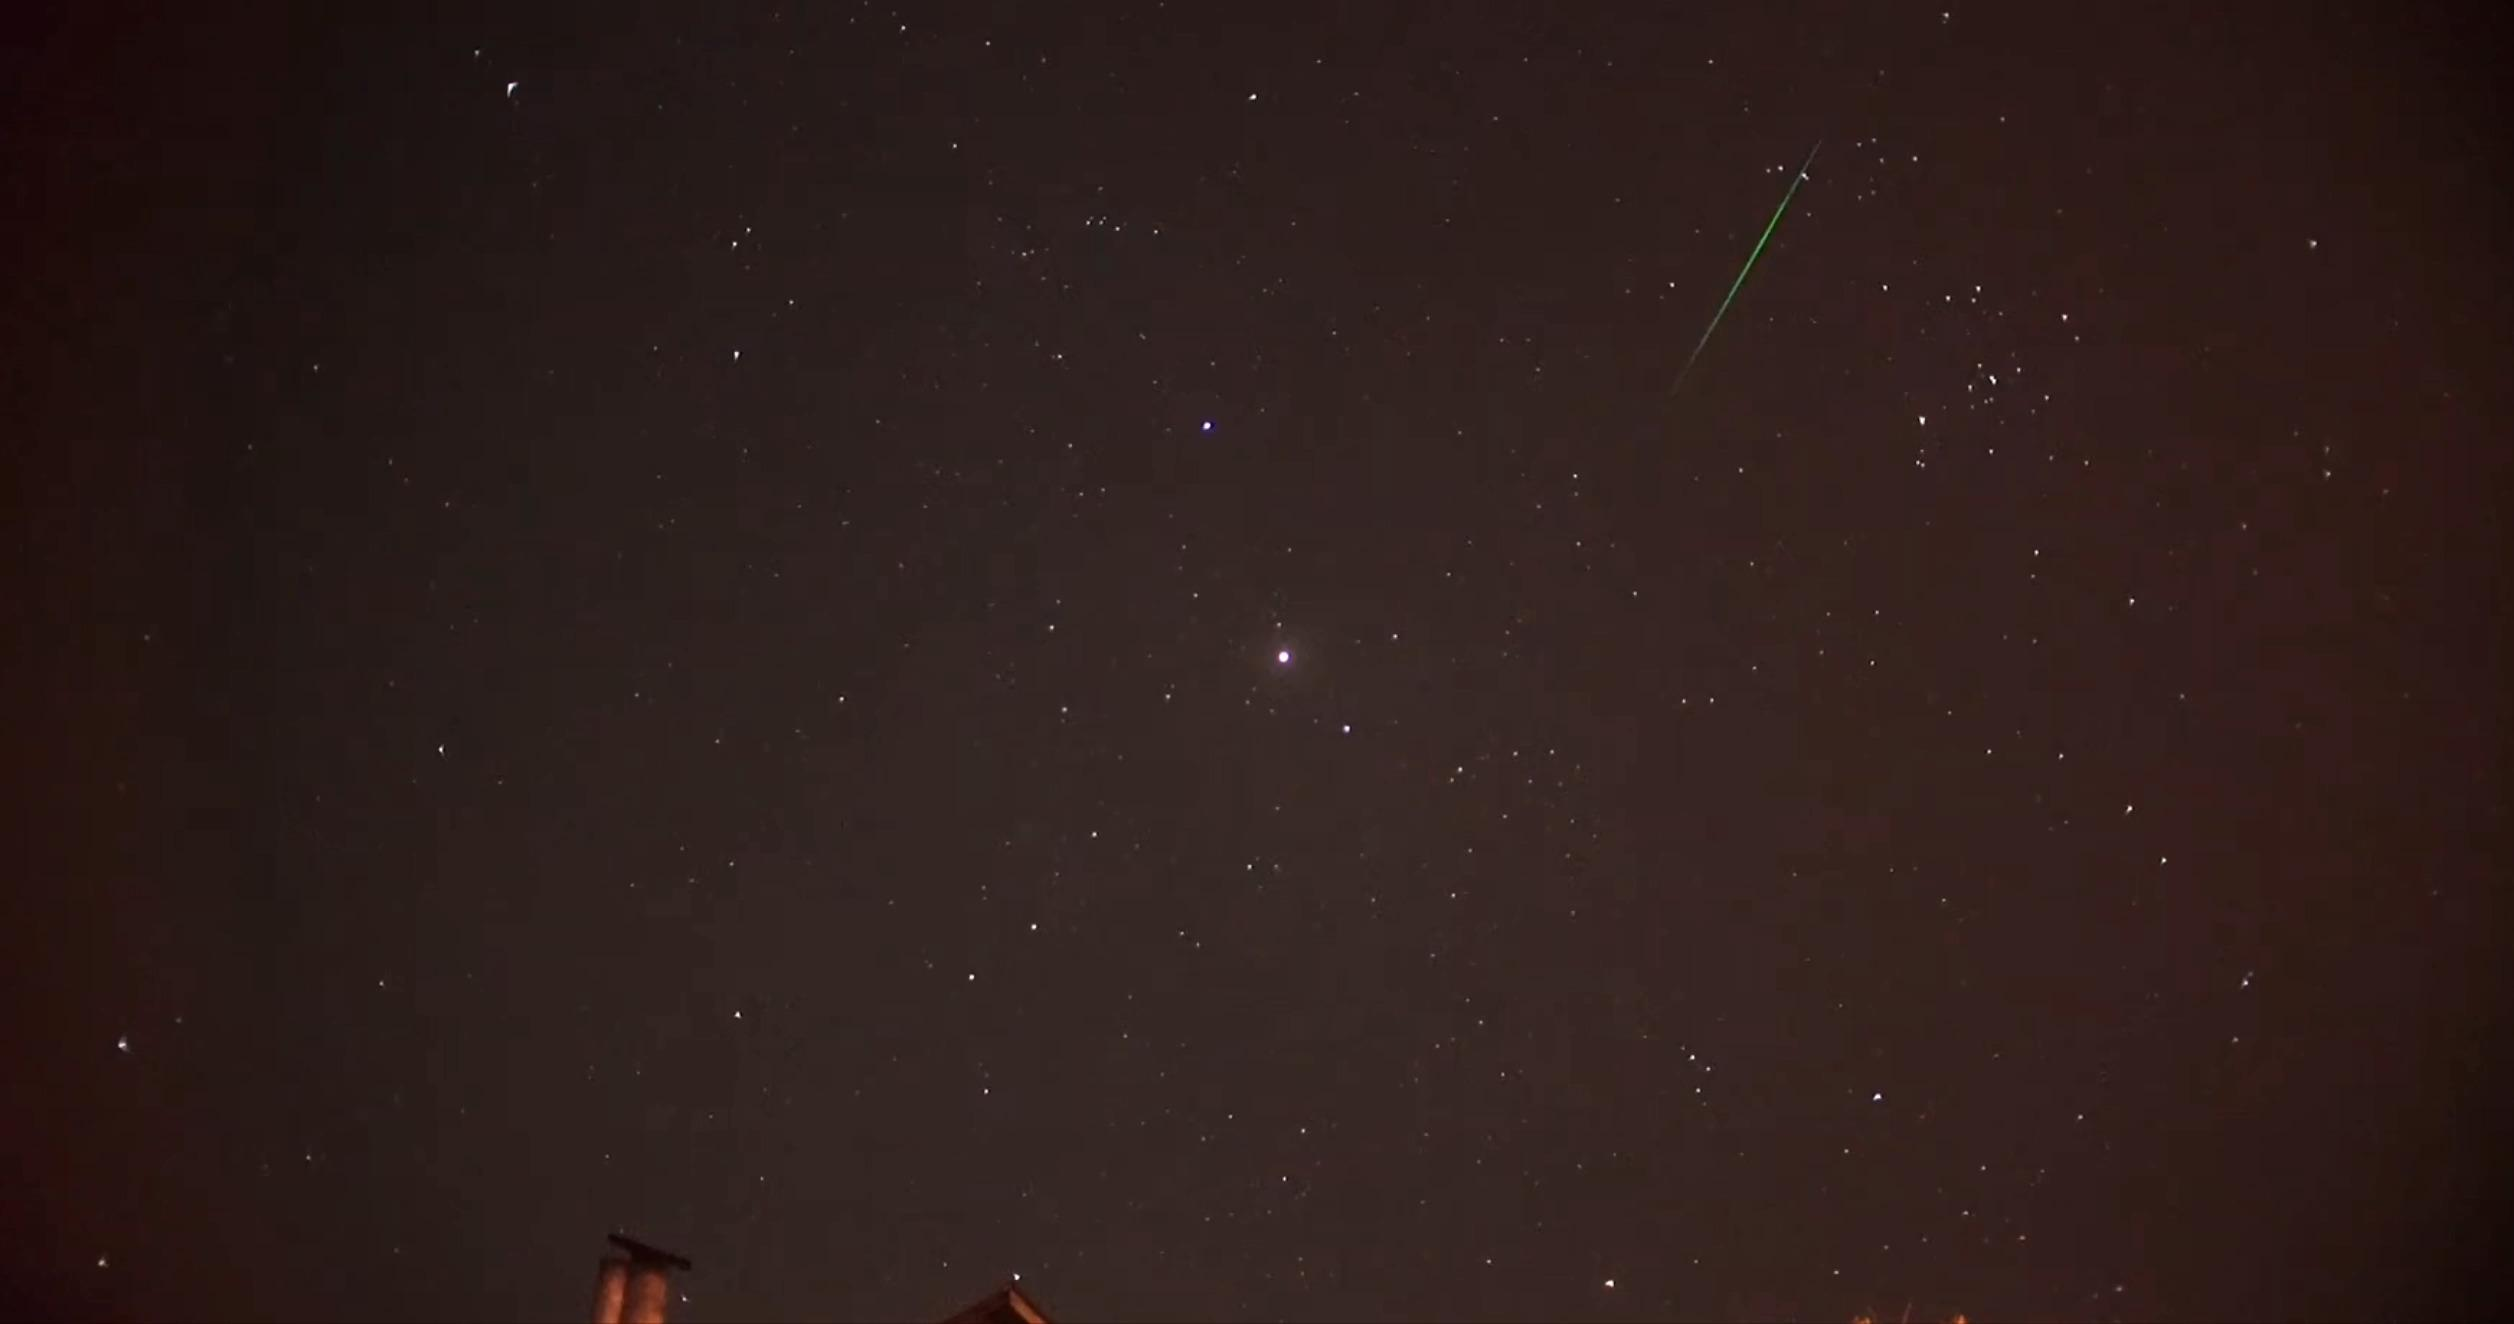meteorite: (1673, 133, 1846, 386)
